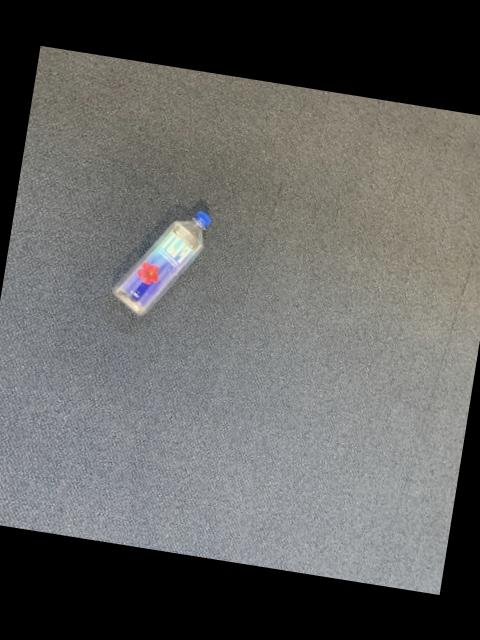plastic: (111, 209, 208, 312)
